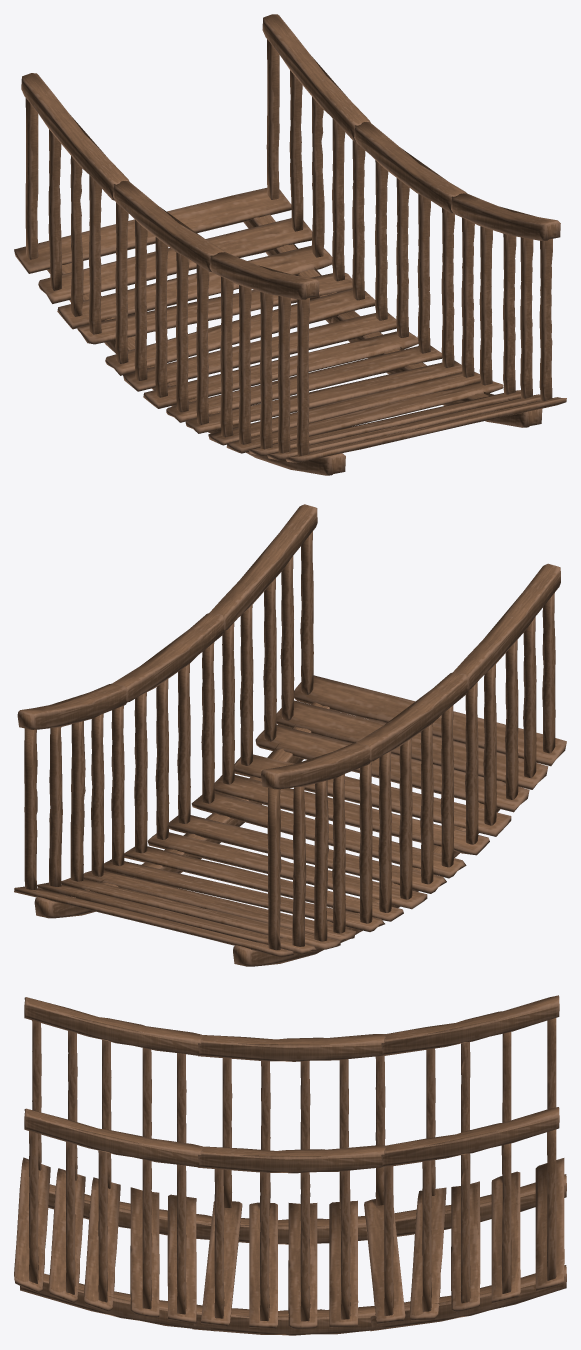
File: SM_bridge_02.fbx
The picture shows the model from 3 angles, top to bottom: view 1: azimuth 30°, elevation 25°; view 2: azimuth 150°, elevation 25°; view 3: azimuth 270°, elevation 25°; orthographic projection. The views are drawn at different scales.
Visible parts, largest first — view 1: bridge_02; view 2: bridge_02; view 3: bridge_02.
Boxes of the visible parts, left/top/right/bottom form: bridge_02: left=14, top=14, right=566, bottom=475; bridge_02: left=14, top=504, right=566, bottom=966; bridge_02: left=14, top=995, right=566, bottom=1335.
Bounding box in the file's own units: 303 × 267 × 576.
